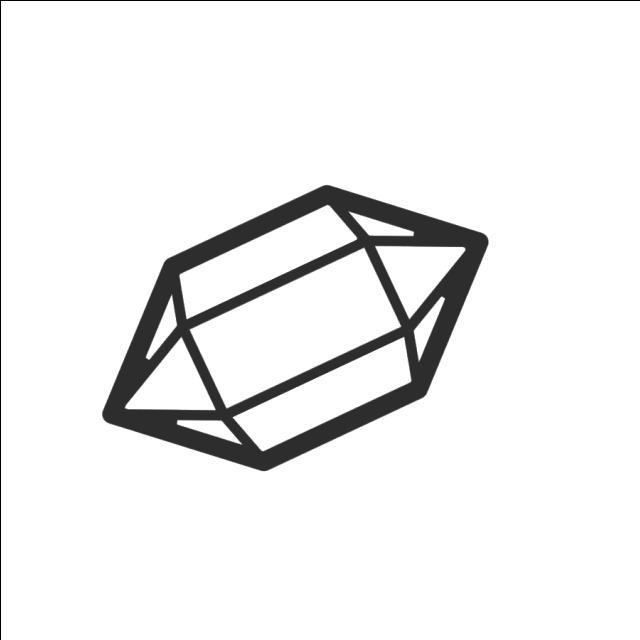crystal: (95, 175, 498, 482)
